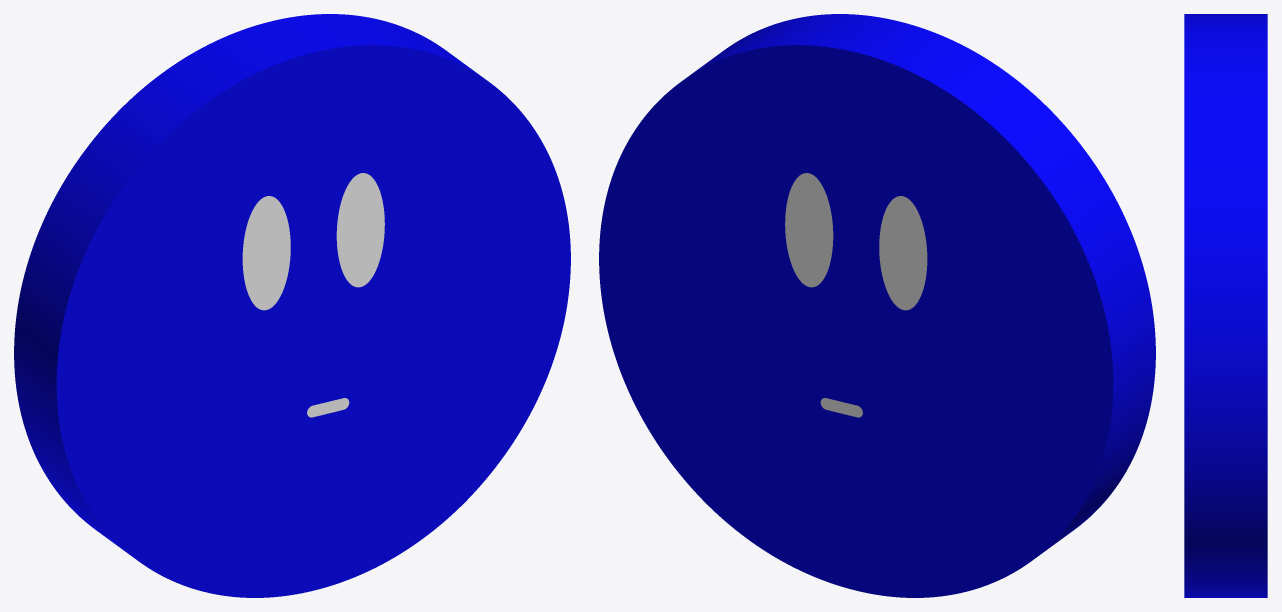
File: Asset 2.gltf
3 renders of one model, left to right at view 1: azimuth 30°, elevation 25°; view 2: azimuth 150°, elevation 25°; view 3: azimuth 270°, elevation 25°, orthographic.
Size of the model in its own units: 0.2375 by 0.2375 by 0.034.
